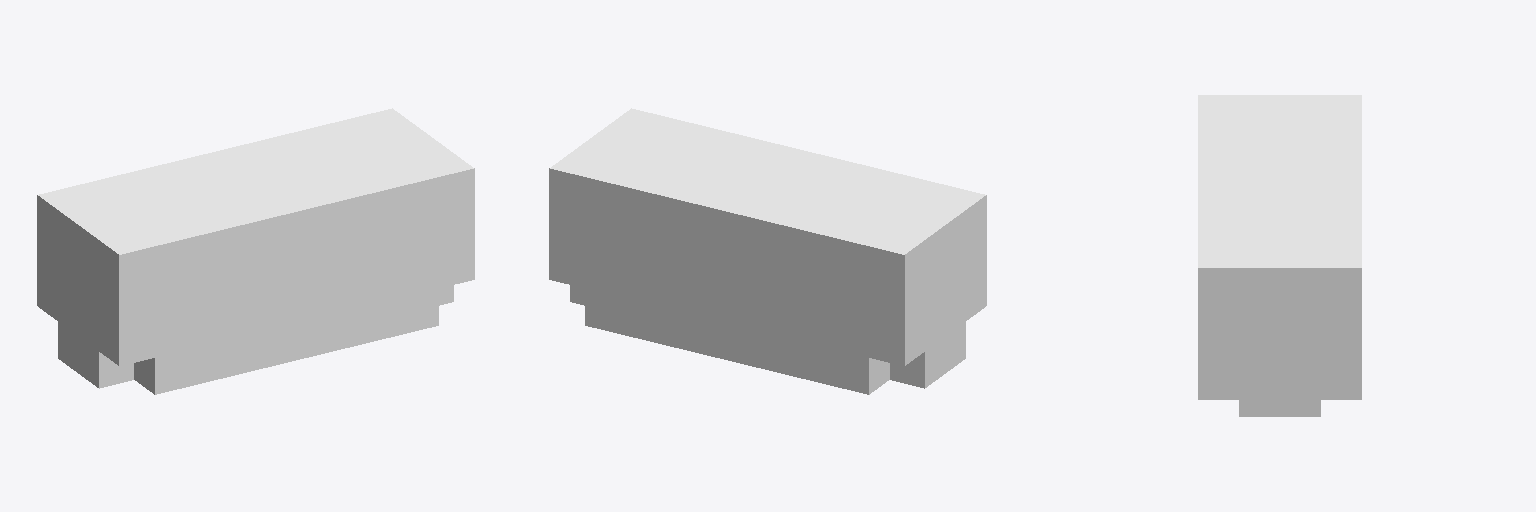
Rendered from BodyBottom.obj.
The picture shows the model from 3 angles: view 1: azimuth 30°, elevation 25°; view 2: azimuth 150°, elevation 25°; view 3: azimuth 270°, elevation 25°; orthographic projection.
Size of the model in its own units: 10 by 4 by 4.